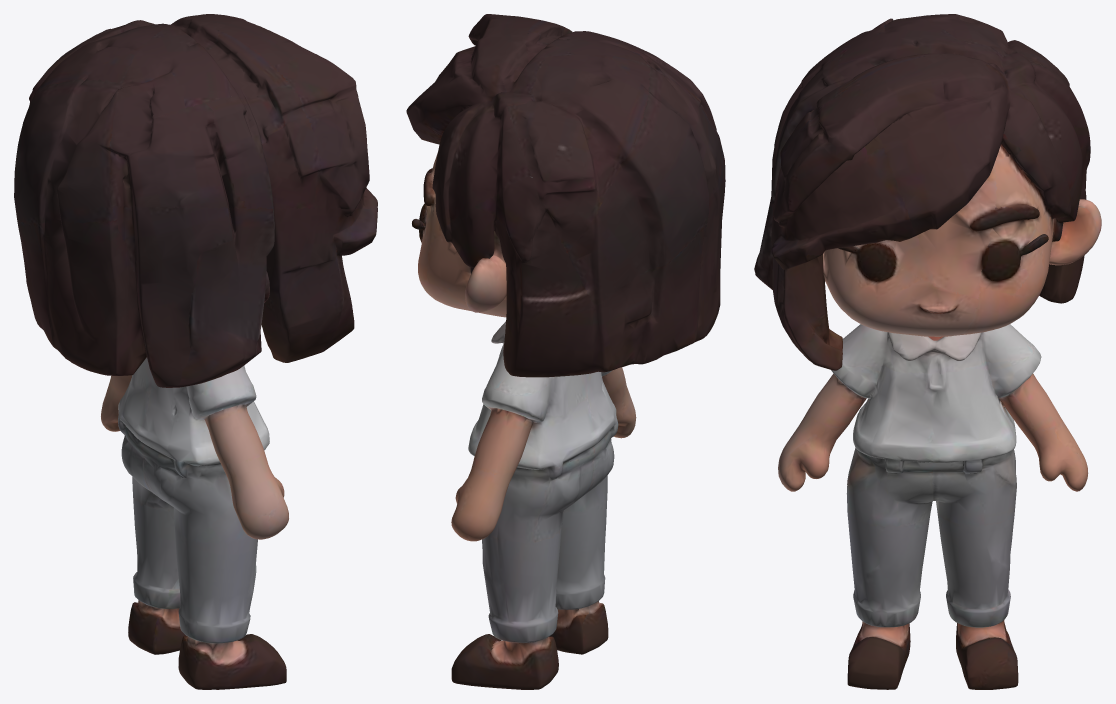
Rendered from char_mira-web.glb.
3 renders of one model, left to right at view 1: azimuth 30°, elevation 25°; view 2: azimuth 150°, elevation 25°; view 3: azimuth 270°, elevation 25°, orthographic. The views are drawn at different scales.
Visible parts, largest first — view 1: tripo_node_b59d6dc5-3ea7-409e-8a17-30a932a55f55; view 2: tripo_node_b59d6dc5-3ea7-409e-8a17-30a932a55f55; view 3: tripo_node_b59d6dc5-3ea7-409e-8a17-30a932a55f55.
Boxes of the visible parts, x1,y1,x2,y2 form: tripo_node_b59d6dc5-3ea7-409e-8a17-30a932a55f55: [14, 14, 377, 689]; tripo_node_b59d6dc5-3ea7-409e-8a17-30a932a55f55: [406, 14, 725, 689]; tripo_node_b59d6dc5-3ea7-409e-8a17-30a932a55f55: [754, 14, 1101, 689].
Size of the model in its own units: 0.4844 by 0.9999 by 0.5091.
Materials: 1 (1 with a texture image).
